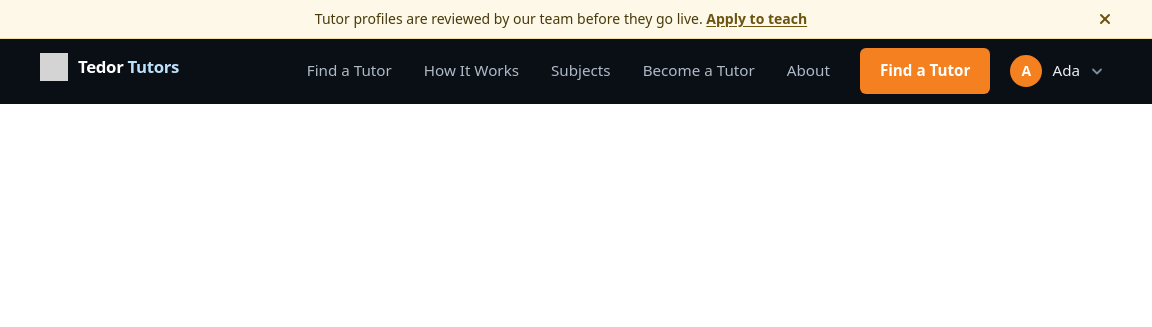
Test case: Navbar › shows the signed-in user and a way to sign out
This screenshot has width=1152, height=327.
Expected: the link "Sign in" is not shown
Click the button "A Ada": (1057, 71) [1002,49,1112,93]
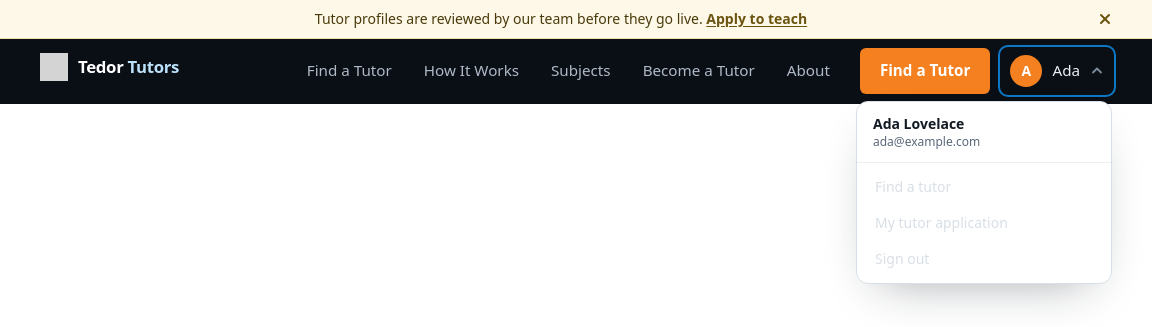
Result: the text "ada@example.com" is shown at [873,133,980,150]
Click the menu item "Sign out": (984, 259) [863,241,1105,277]
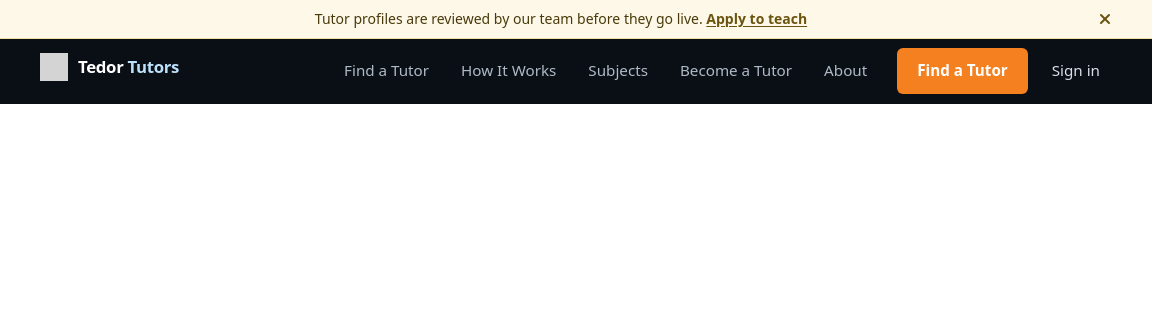
Result: the link "Sign in" is shown at [1052,60,1100,80]
